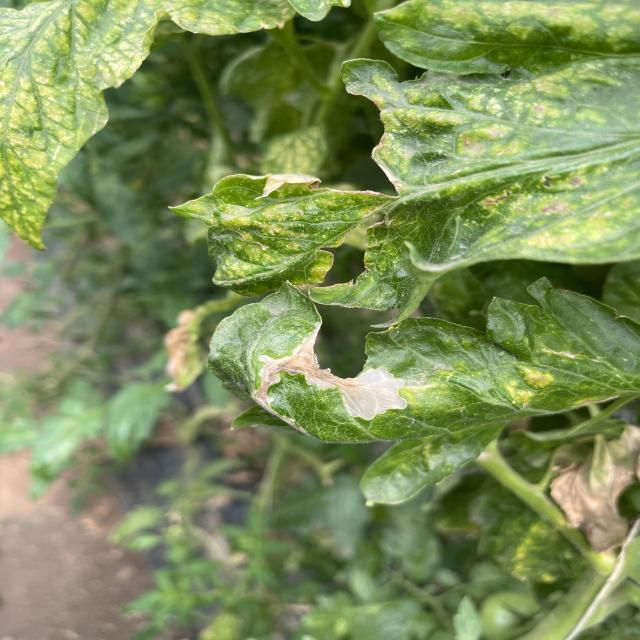Tuta absoluta: (281, 319, 419, 438)
